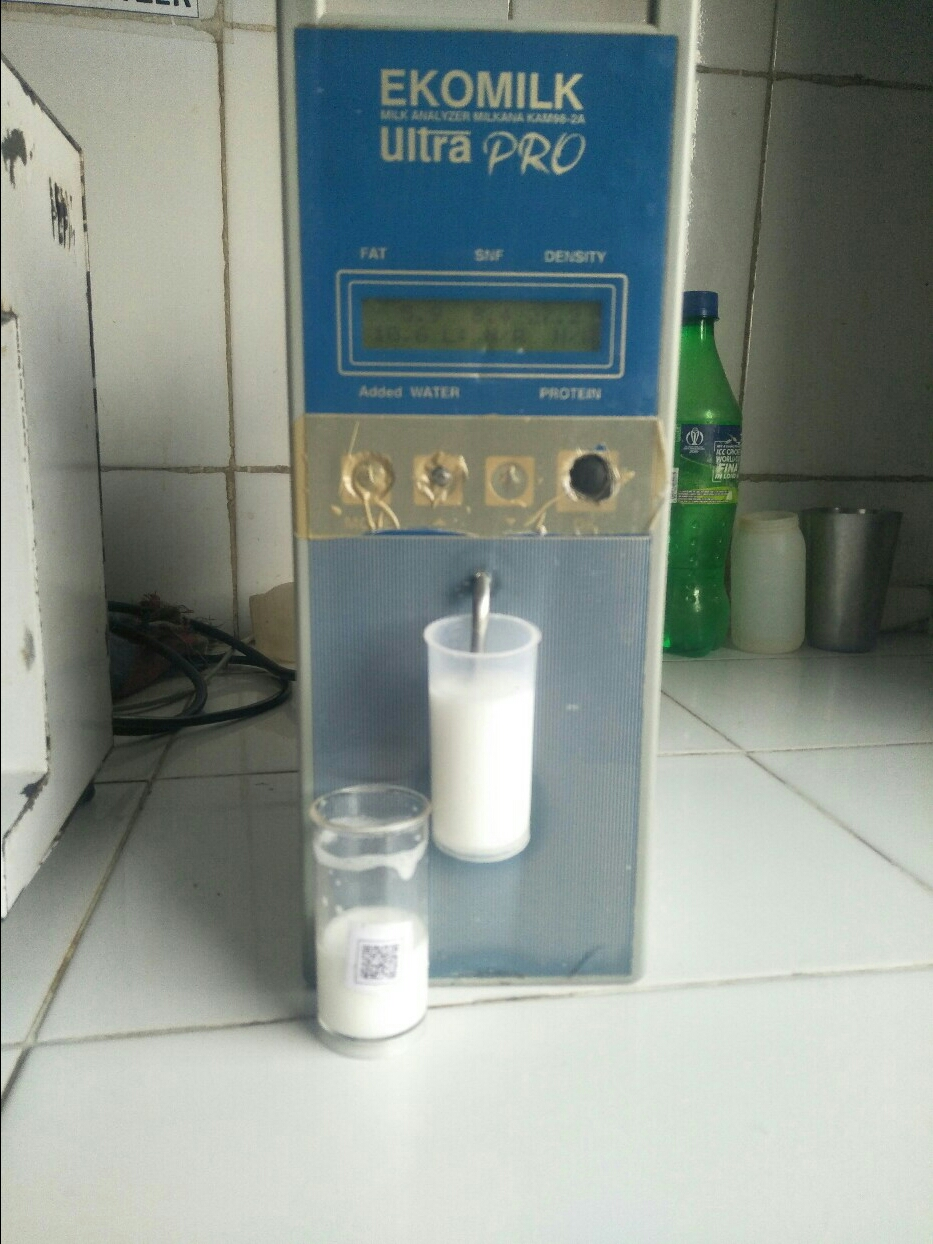lcd: (342, 295, 620, 371)
qr: (339, 931, 403, 986)
